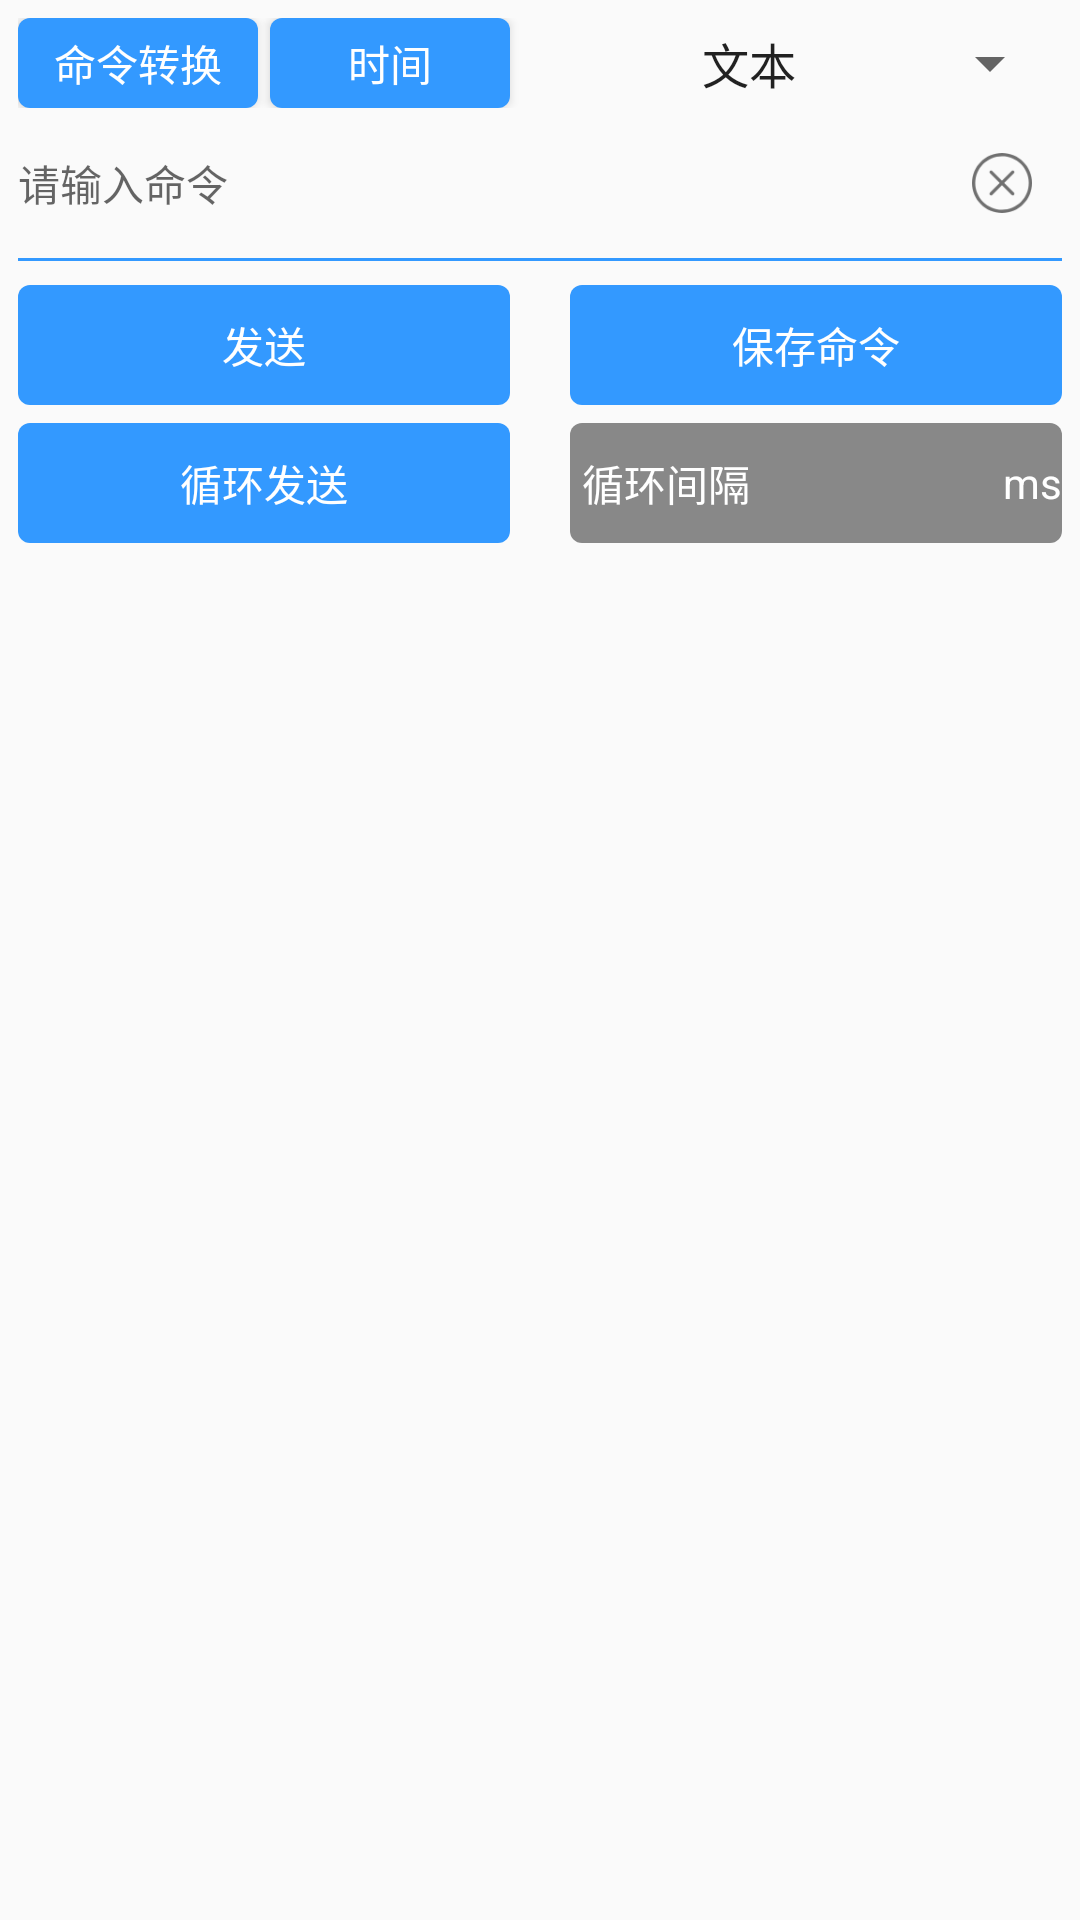

Icons on this 1080px×1920px Android screen, each with the point to tap as (x=x, y=y):
delete: (x=1002, y=183)
